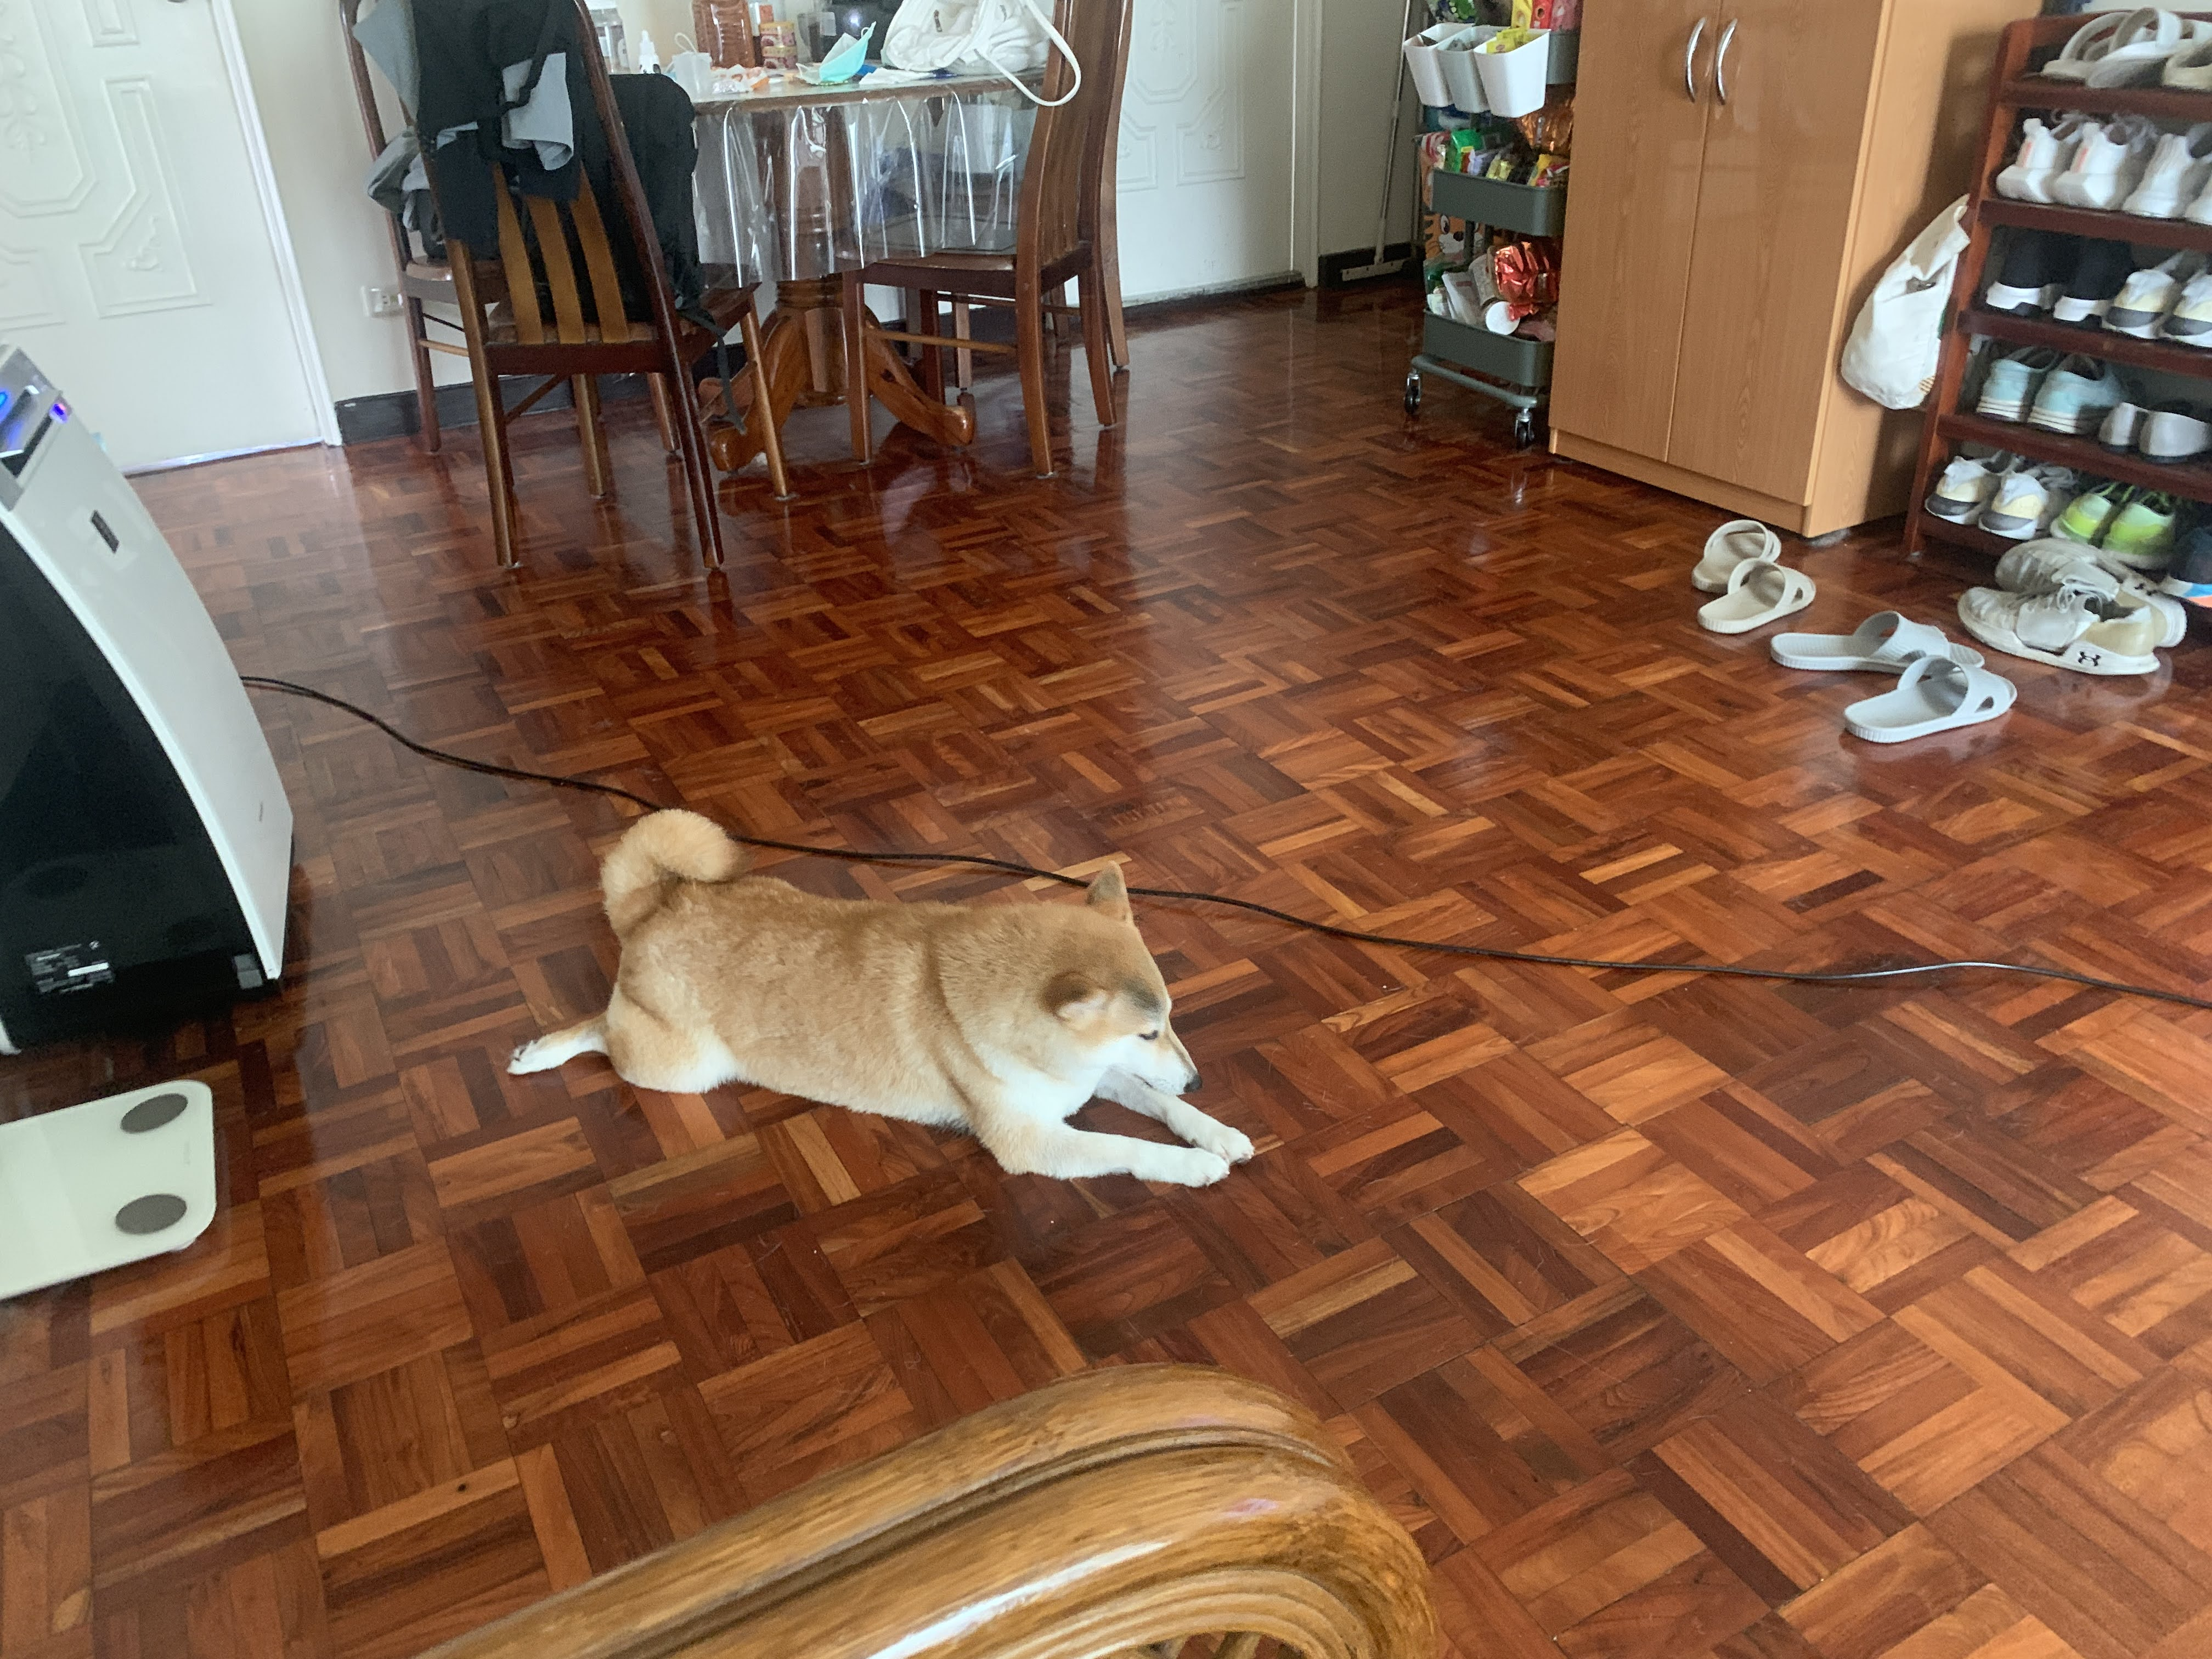Get down: (509, 769, 1251, 1211)
